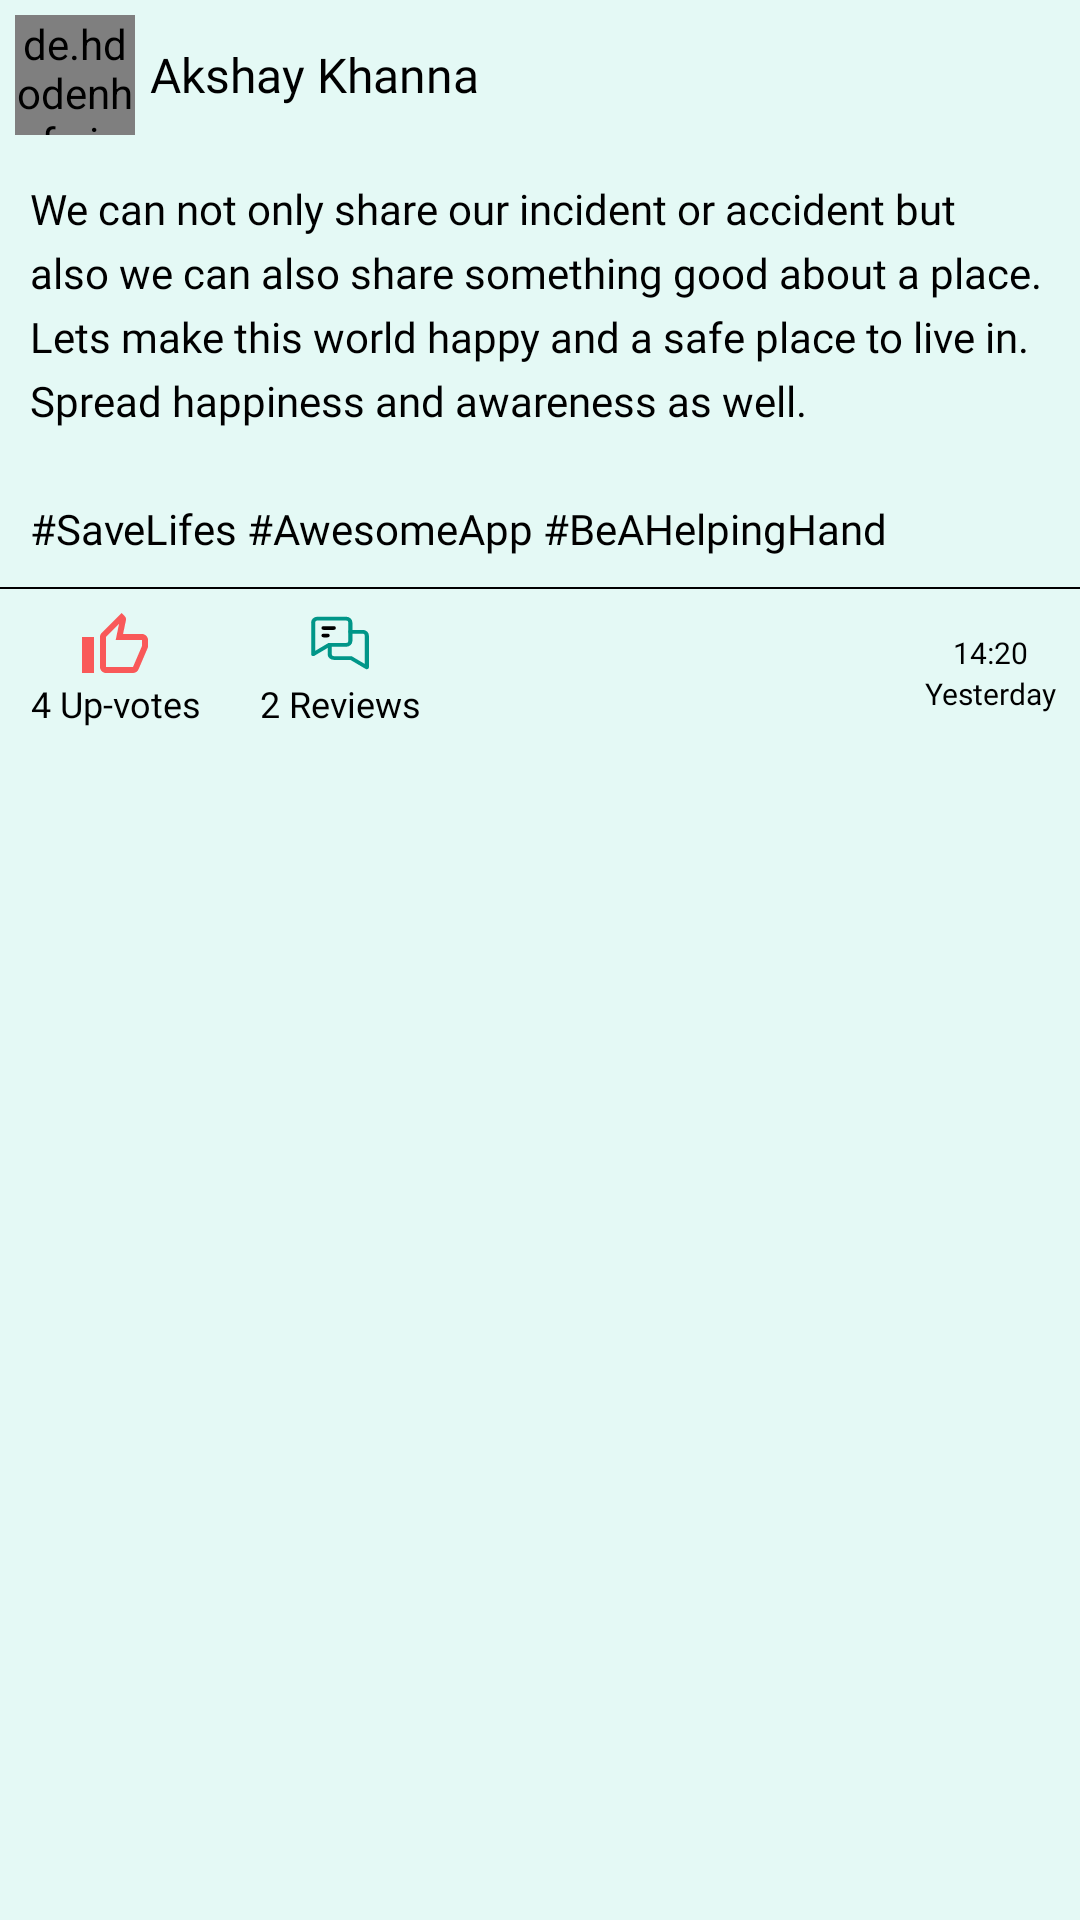

Locate icon controls on the screen. Image size 1080 × 1920, boxes as Rect(x1, y1, x2, y2).
comment: Rect(311, 616, 369, 670)
like: Rect(82, 613, 148, 673)
